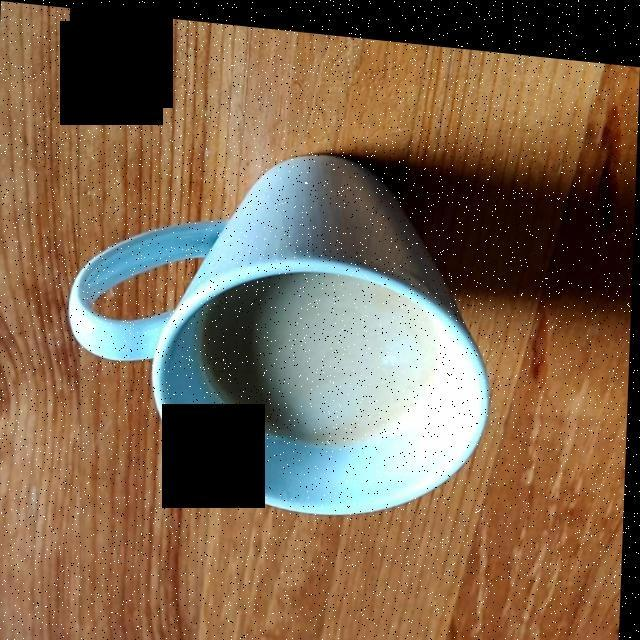coffee: (202, 269, 441, 436)
